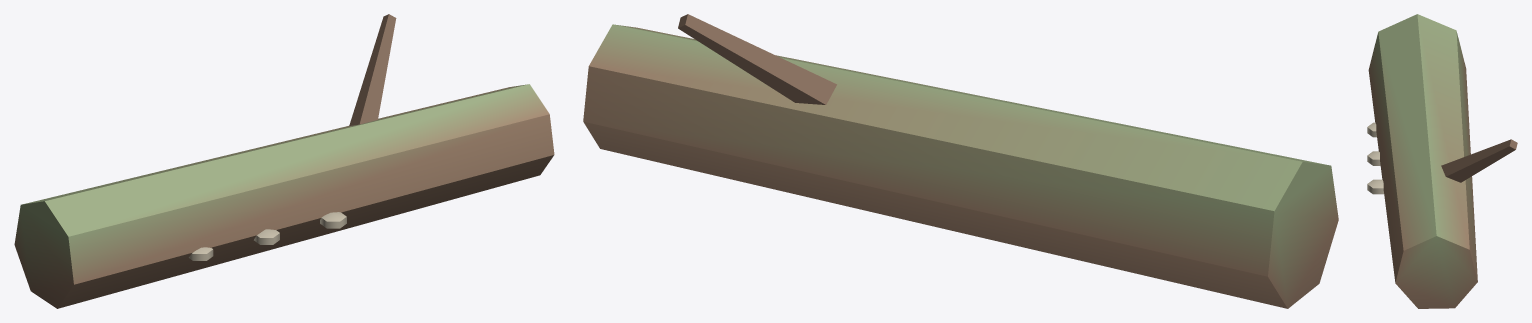
Rendered from log_fallen.glb.
3 renders of one model, left to right at view 1: azimuth 30°, elevation 25°; view 2: azimuth 150°, elevation 25°; view 3: azimuth 270°, elevation 25°, orthographic. The views are drawn at different scales.
Parts seen in each view (by area): view 1: Log; view 2: Log; view 3: Log.
Boxes of the visible parts, <box> form: Log: <box>14,14,554,308</box>; Log: <box>583,14,1338,308</box>; Log: <box>1367,14,1517,308</box>.
Size of the model in its own units: 2.62 by 0.7487 by 0.7818.
